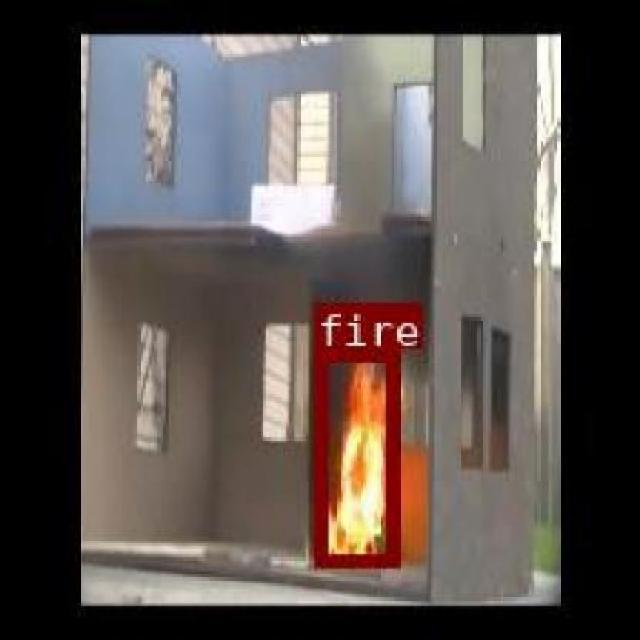Fire: (312, 346, 396, 566)
